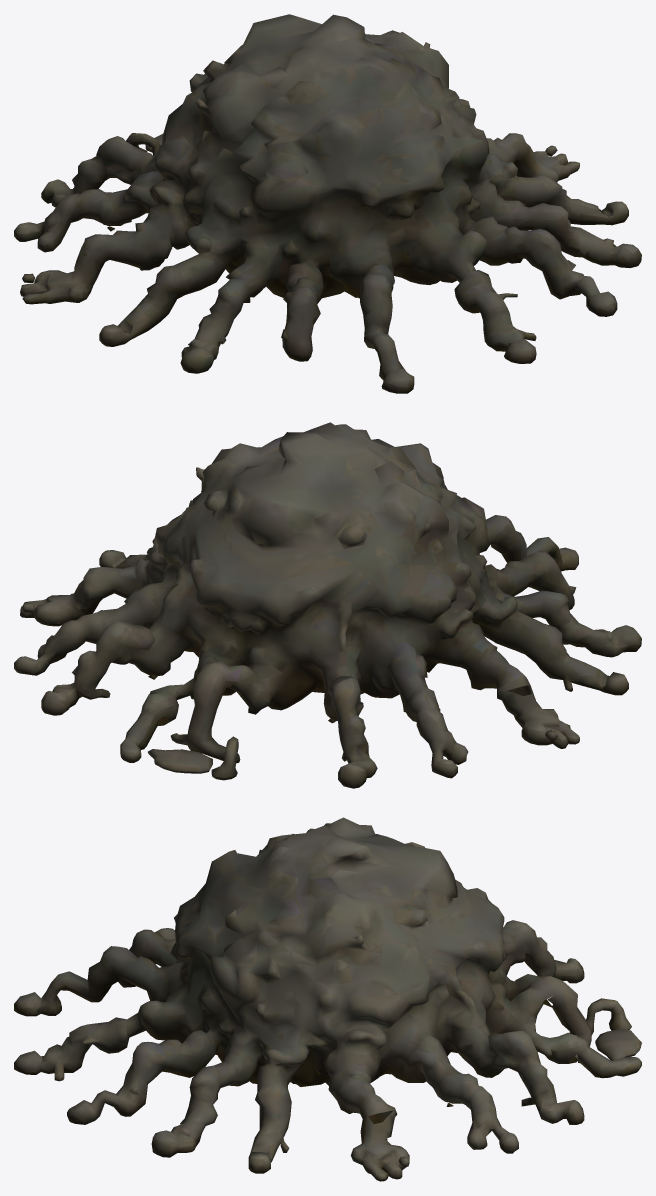
File: rust_seep.glb
The picture shows the model from 3 angles, top to bottom: view 1: azimuth 30°, elevation 25°; view 2: azimuth 150°, elevation 25°; view 3: azimuth 270°, elevation 25°; orthographic projection. The views are drawn at different scales.
Parts seen in each view (by area): view 1: base_model_path; view 2: base_model_path; view 3: base_model_path.
Boxes of the visible parts, bbox=[...] form: base_model_path: bbox=[14, 14, 641, 393]; base_model_path: bbox=[14, 422, 641, 788]; base_model_path: bbox=[14, 817, 641, 1181].
Bounding box in the file's own units: 0.9967 × 0.3799 × 1.
1 material, 1 textured.
